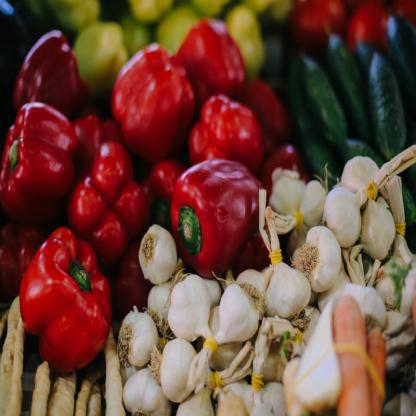capsicum: (11, 218, 115, 374)
